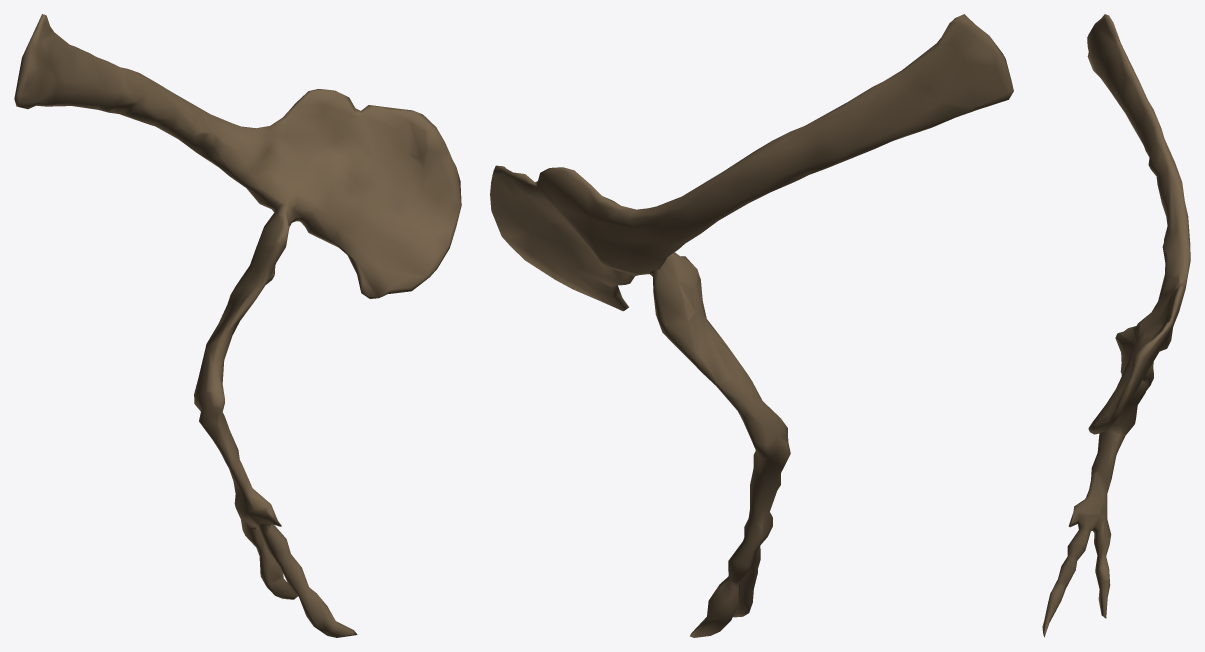
File: Trex_Forelimb_L.fbx
3 renders of one model, left to right at view 1: azimuth 30°, elevation 25°; view 2: azimuth 150°, elevation 25°; view 3: azimuth 270°, elevation 25°, orthographic. The views are drawn at different scales.
Visible parts, largest first — view 1: Trex_Forelimb_L; view 2: Trex_Forelimb_L; view 3: Trex_Forelimb_L.
Boxes of the visible parts, x1,y1,x2,y2 form: Trex_Forelimb_L: [14, 14, 461, 637]; Trex_Forelimb_L: [490, 14, 1013, 637]; Trex_Forelimb_L: [1042, 14, 1190, 637].
Bounding box in the file's own units: 0.1301 × 0.1753 × 0.0455.
Materials: 1 (1 with a texture image).
